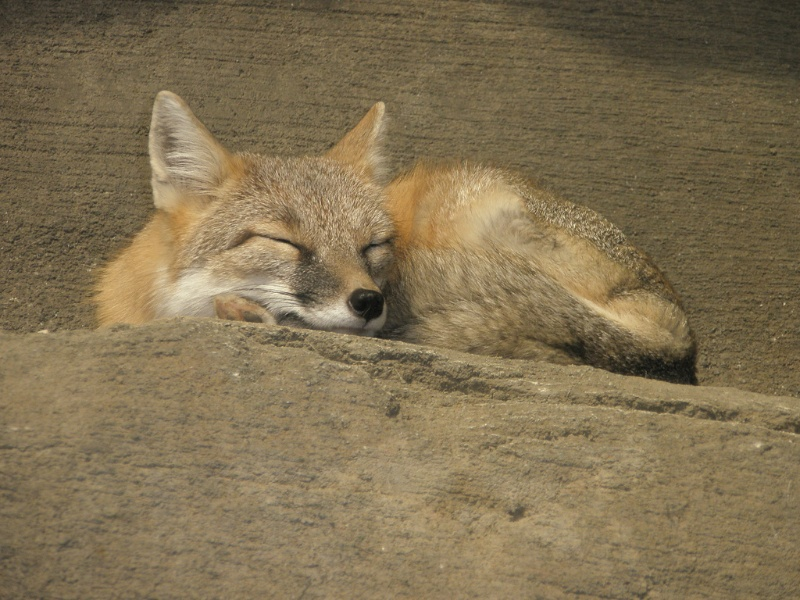fox: (89, 83, 703, 391)
